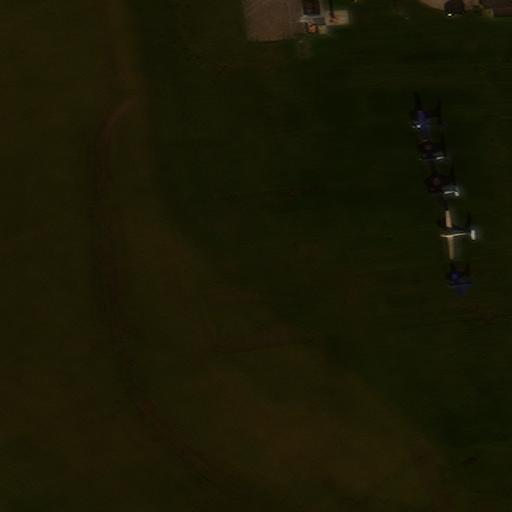Medium Civil Transport: (441, 212, 475, 257)
Small Civil Transport: (412, 112, 443, 137), (430, 180, 459, 203), (421, 146, 447, 171), (449, 274, 472, 294)
